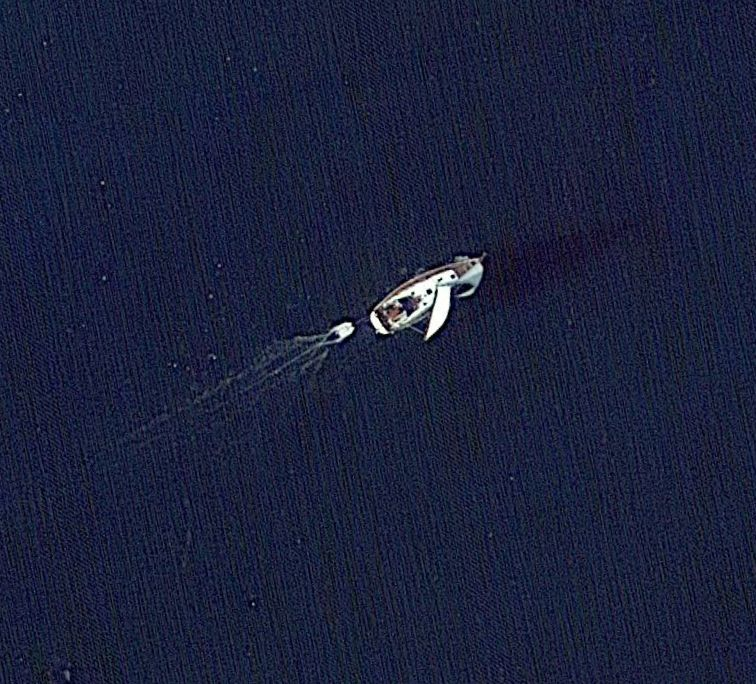boat: (365, 240, 501, 349)
